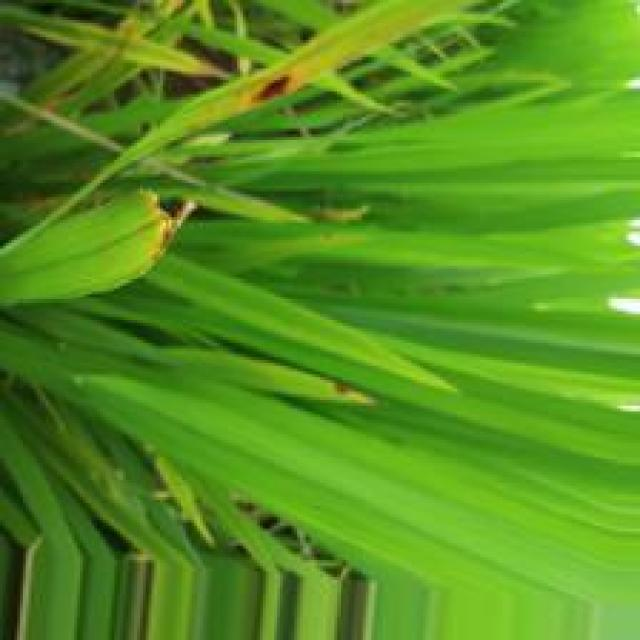Brown_Spot: (252, 66, 294, 110)
